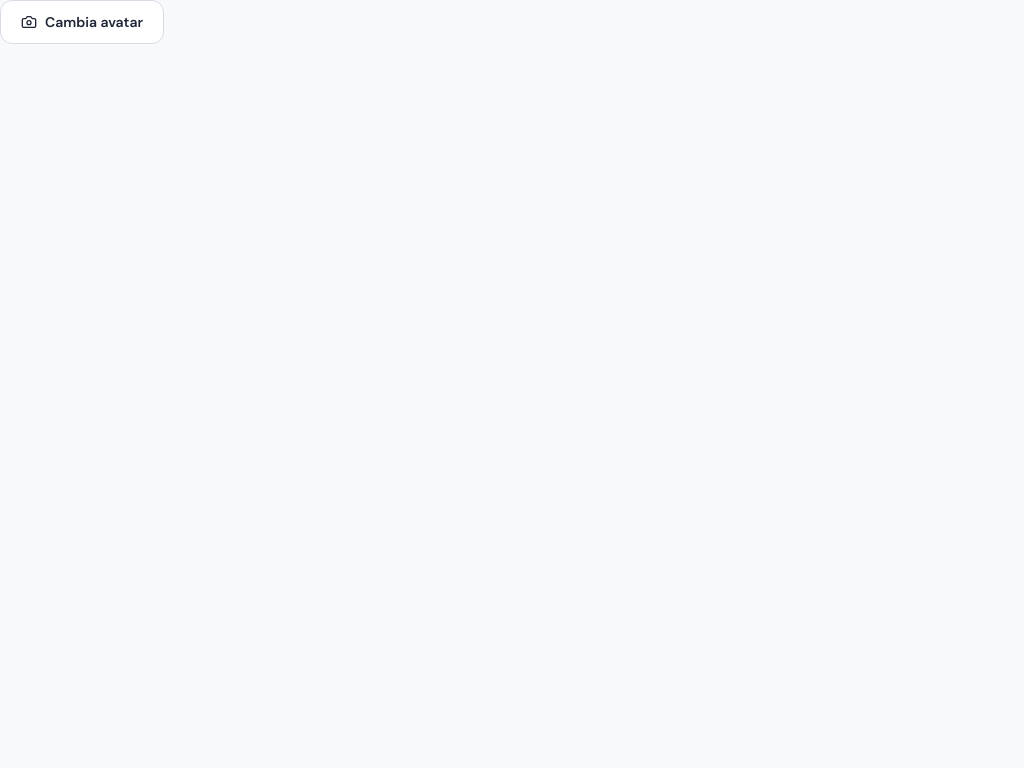
it: existing avatar selector integration › preserves the six Studio choices and their explicit selection flow
This screenshot has width=1024, height=768.
Click the button "Cambia avatar" at (82, 22), box [0,0,164,44]
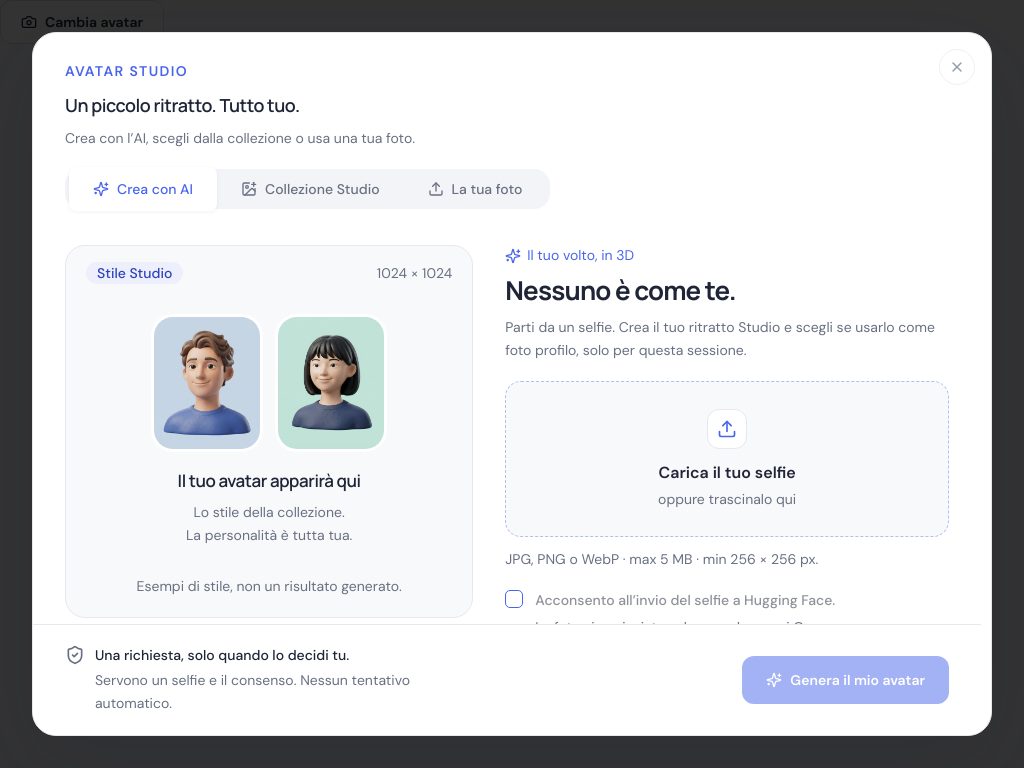
expect the element "Nessuno è come te." is shown: met, box [33,241,981,735]
Press Enter in the tab "Collezione Studio", box [217,167,404,211]
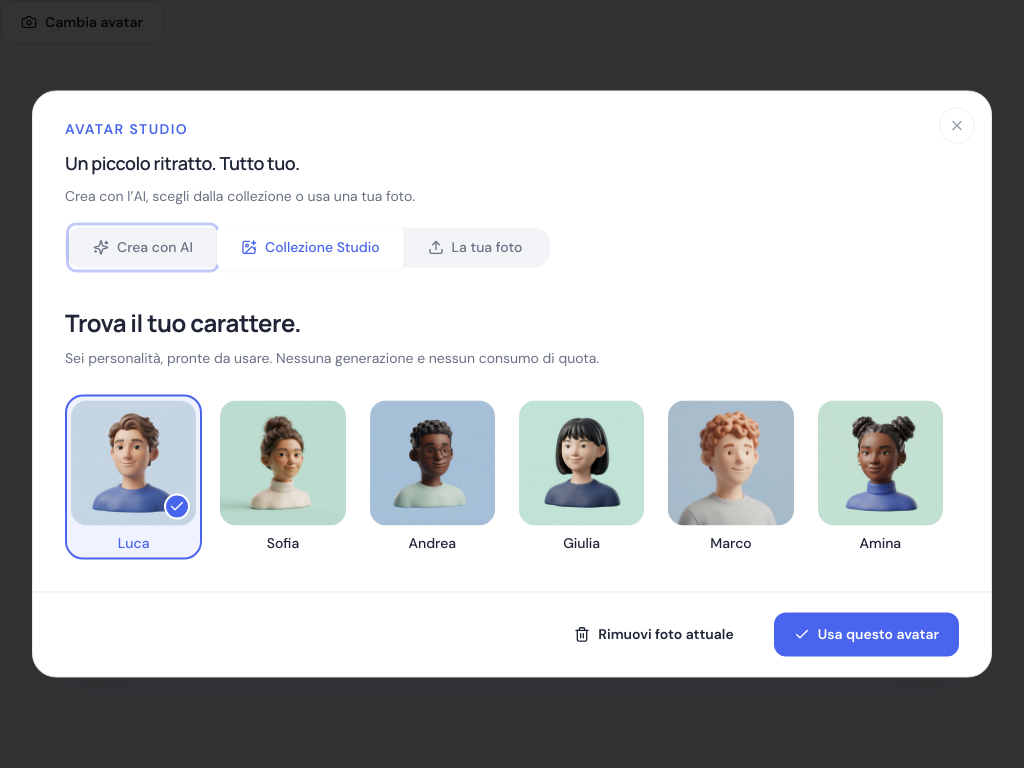
expect the number of radio buttons is 6: met
expect the heading "Nessuno è come te." is gone: met
Click the 2nd radio button named "Sofia" at (227, 407), box [219,399,235,415]
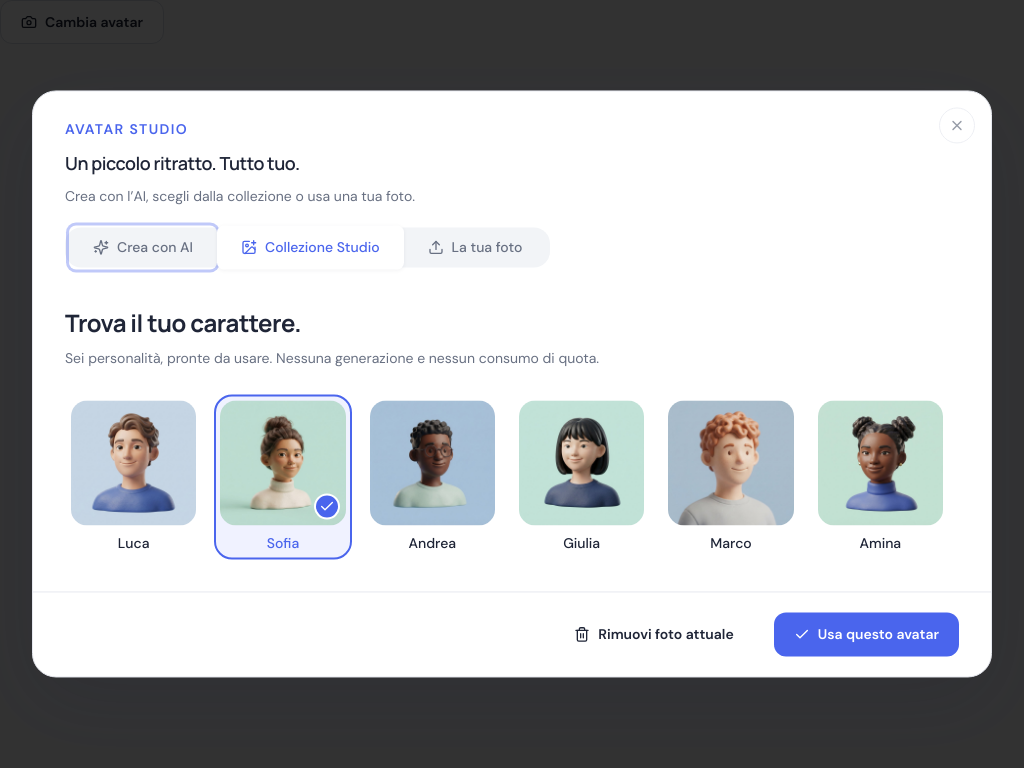
Click the button "Usa questo avatar" at (866, 634), box [774,612,959,656]
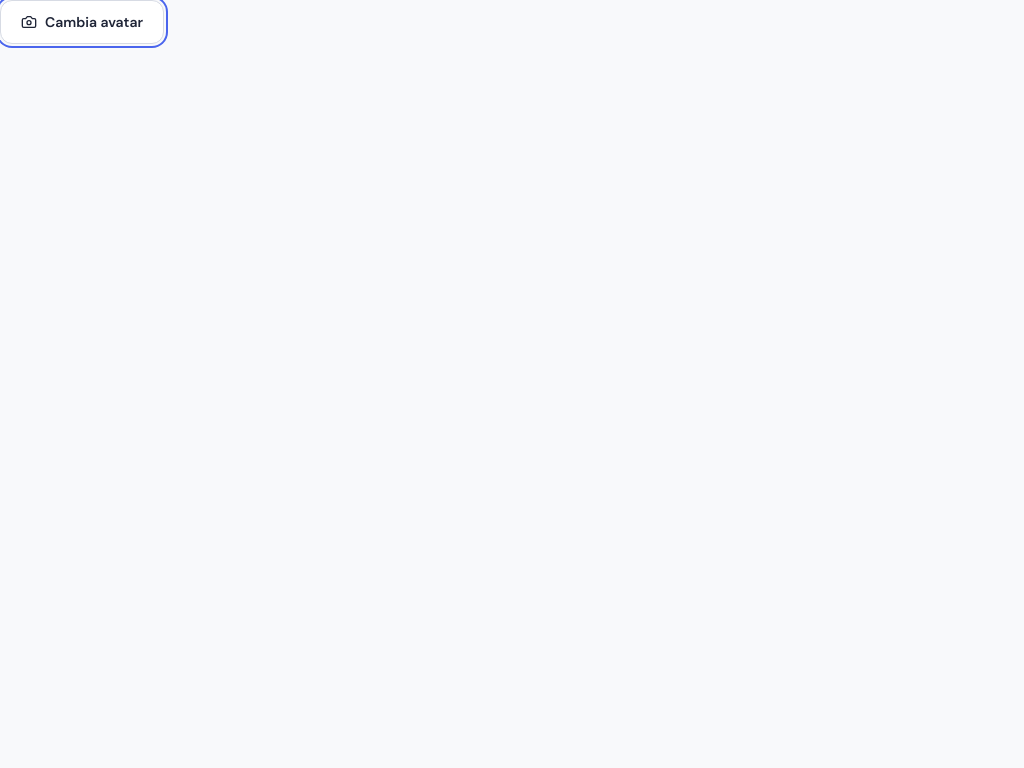
expect the dialog is gone: met
